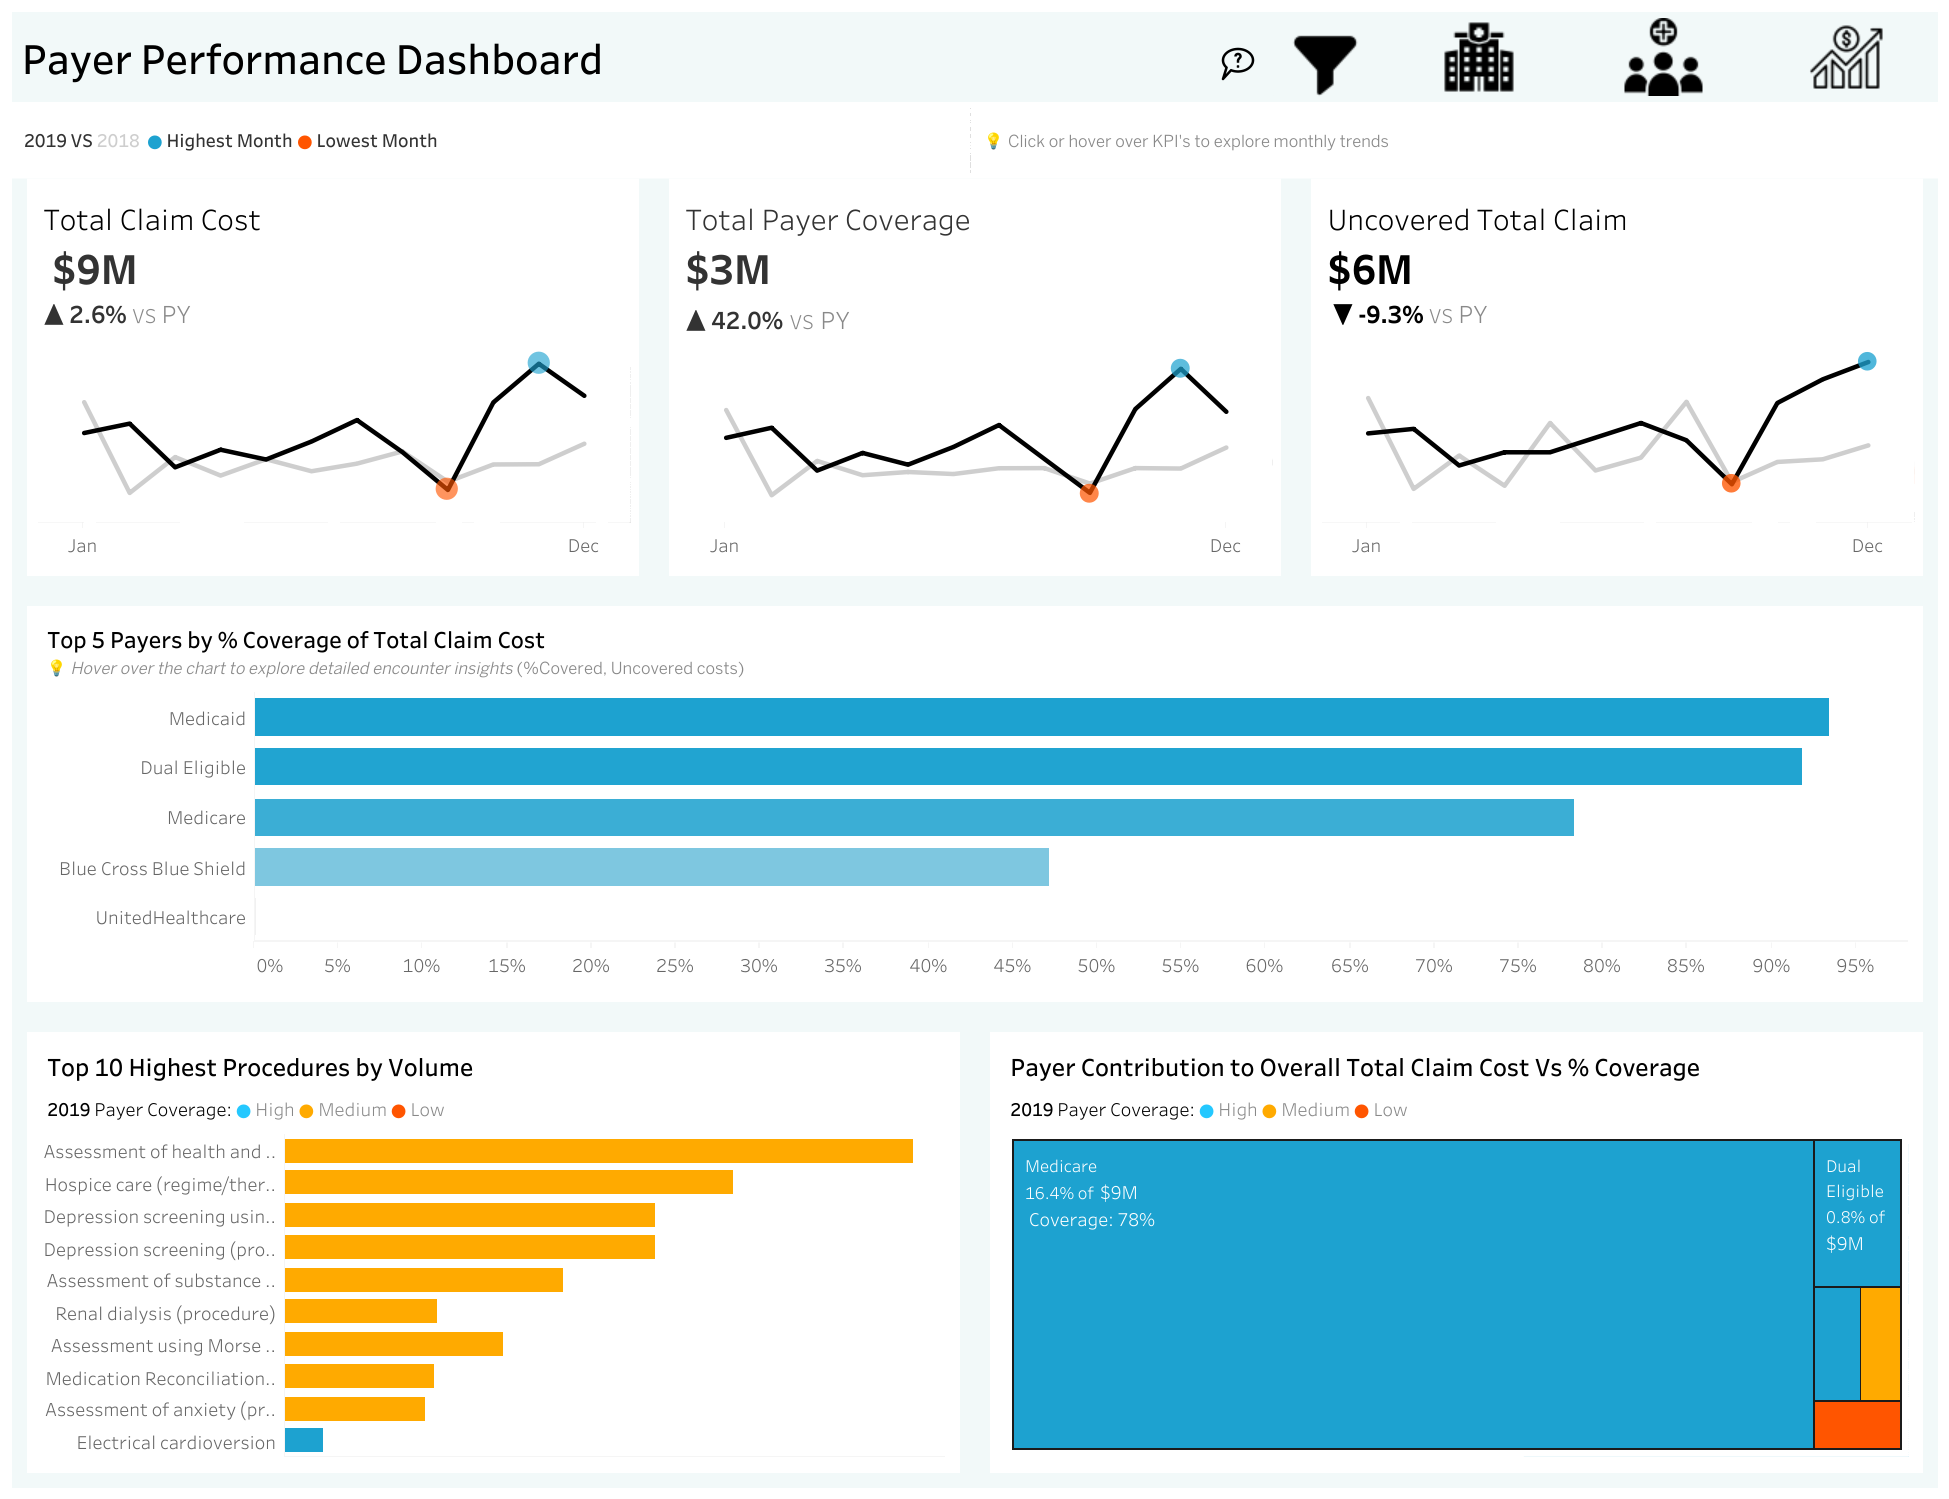

What the dashboard file says about the page in this screenshot:
{"tool":"tableau","page":{"name":"Payer Performance Dashboard","canvas":[1300,1000],"ordinal":2},"visuals":[{"type":"text","box":[8,8,917,60]},{"type":"dashboard-object","box":[925,8,123,60]},{"type":"dashboard-object","box":[1048,8,122,60]},{"type":"text","box":[1097,8,195,15]},{"type":"dashboard-object","box":[1170,8,122,60]},{"type":"dashboard-object","box":[854,18,60,49]},{"type":"worksheet","title":"Icon Payers","mark":"Shape","rows":["Calculation_113997431509295104"],"box":[598,20.8,66,40.8]},{"type":"worksheet","title":"Insight Financial risk","mark":"Text","box":[1097,23,195,15]},{"type":"worksheet","title":"Insight seasonality","mark":"Text","box":[1097,38,195,15]},{"type":"worksheet","title":"Procedure cost insight","mark":"Text","box":[1097,53,195,15]},{"type":"worksheet","title":"Legend KPI","mark":"Automatic","box":[8,68,642,51]},{"type":"text","box":[650,68,642,51]},{"type":"blank","box":[1097,68,195,80]},{"type":"worksheet","title":"KPI Total claim cost","mark":"Line","rows":["Calculation_910853084917542921"],"cols":["Encounter_start_time"],"box":[8,119,428,275]},{"type":"worksheet","title":"KPI Payer coverage","mark":"Line","rows":["Calculation_1048212876204269571"],"cols":["Encounter_start_time"],"box":[436,119,428,275]},{"type":"worksheet","title":"KPI Uncovered costs","mark":"Line","rows":["Calculation_258675569046794255"],"cols":["Encounter_start_time"],"box":[864,119,428,275]},{"type":"text","box":[1097,148,195,33]},{"type":"blank","box":[1097,181,195,39]},{"type":"parameter","param":"[Parameters].[Parameter 1]","box":[1097,220,195,73]},{"type":"filter","title":"KPI Payer coverage","param":"[federated.0diqimf0krdboo14h8w6v06q0hld].[none:Payer_name:nk]","box":[1097,293,195,94]},{"type":"filter","title":"KPI Payer coverage","param":"[federated.0diqimf0krdboo14h8w6v06q0hld].[none:Procedure_code_description:nk]","box":[1097,387,195,83]},{"type":"text","box":[25,411,1250,63]},{"type":"filter","title":"Top 5 payers","param":"[federated.0diqimf0krdboo14h8w6v06q0hld].[none:Encounter_class:nk]","box":[1097,470,195,70]},{"type":"worksheet","title":"Top 5 payers","mark":"Bar","rows":["Payer_name"],"cols":["Calculation_541276443501948930"],"box":[25,474,1250,187]},{"type":"filter","title":"Top 10 Procedures by Volume","param":"[federated.0diqimf0krdboo14h8w6v06q0hld].[usr:Calculation_515099271034101765:nk]","box":[1097,540,195,70]},{"type":"filter","title":"Payer Contribution vs Coverage","param":"[federated.0diqimf0krdboo14h8w6v06q0hld].[usr:Calculation_620089437696872449:nk]","box":[1097,610,195,70]},{"type":"text","box":[25,695,608,41]},{"type":"text","box":[667,695,608,74]},{"type":"text","box":[25,736,608,33]},{"type":"worksheet","title":"Top 10 Procedures by Volume","mark":"Bar","rows":["Procedure_code_description"],"cols":["Calculation_541276443514060807"],"box":[25,769,608,206]},{"type":"text","box":[667,769,608,33]},{"type":"worksheet","title":"Payer Contribution vs Coverage","mark":"Automatic","box":[667,802,608,173]}]}

Visuals, with their boxes in screenshot pixels (x1, y1, x2, y2), scaled from the page's 1300x1000 canvas onto the 1949x1499 screenshot:
text: 12, 12, 1387, 102
dashboard-object: 1387, 12, 1571, 102
dashboard-object: 1571, 12, 1754, 102
text: 1645, 12, 1937, 34
dashboard-object: 1754, 12, 1937, 102
dashboard-object: 1280, 27, 1370, 100
"Icon Payers" worksheet (Shape marks): 897, 31, 995, 92
"Insight Financial risk" worksheet (Text marks): 1645, 34, 1937, 57
"Insight seasonality" worksheet (Text marks): 1645, 57, 1937, 79
"Procedure cost insight" worksheet (Text marks): 1645, 79, 1937, 102
"Legend KPI" worksheet: 12, 102, 974, 178
text: 974, 102, 1937, 178
blank: 1645, 102, 1937, 222
"KPI Total claim cost" worksheet (Line marks): 12, 178, 654, 591
"KPI Payer coverage" worksheet (Line marks): 654, 178, 1295, 591
"KPI Uncovered costs" worksheet (Line marks): 1295, 178, 1937, 591
text: 1645, 222, 1937, 271
blank: 1645, 271, 1937, 330
parameter: 1645, 330, 1937, 439
"KPI Payer coverage" filter: 1645, 439, 1937, 580
"KPI Payer coverage" filter: 1645, 580, 1937, 705
text: 37, 616, 1912, 711
"Top 5 payers" filter: 1645, 705, 1937, 809
"Top 5 payers" worksheet (Bar marks): 37, 711, 1912, 991
"Top 10 Procedures by Volume" filter: 1645, 809, 1937, 914
"Payer Contribution vs Coverage" filter: 1645, 914, 1937, 1019
text: 37, 1042, 949, 1103
text: 1000, 1042, 1912, 1153
text: 37, 1103, 949, 1153
"Top 10 Procedures by Volume" worksheet (Bar marks): 37, 1153, 949, 1462
text: 1000, 1153, 1912, 1202
"Payer Contribution vs Coverage" worksheet: 1000, 1202, 1912, 1462
